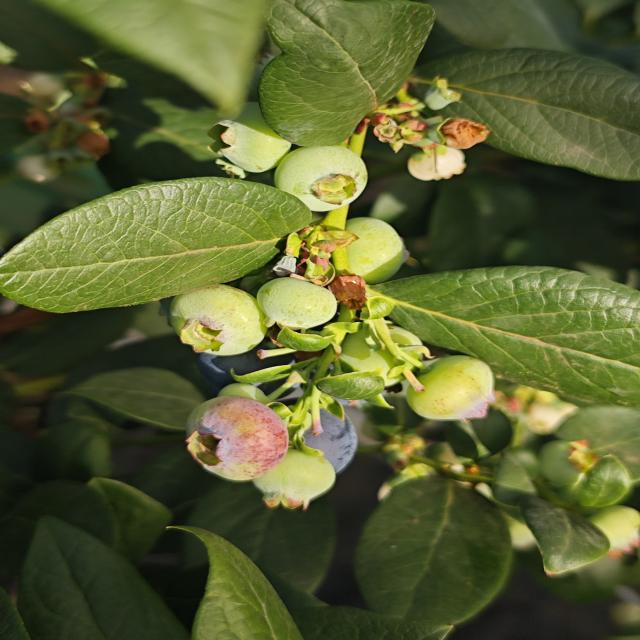ripe: (285, 402, 361, 476), (199, 323, 279, 382)
